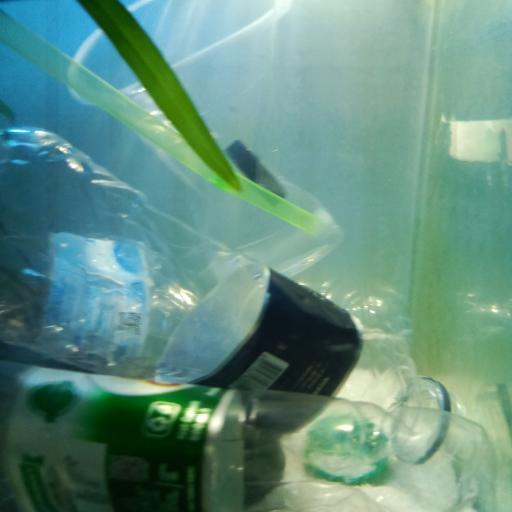bottle_cap: (306, 413, 390, 481), (226, 139, 286, 207)
plastic_bottle: (0, 124, 468, 464), (0, 362, 499, 512), (0, 231, 414, 406)
plastic_cup: (64, 2, 343, 277)
plastic_straw: (0, 8, 320, 235)
